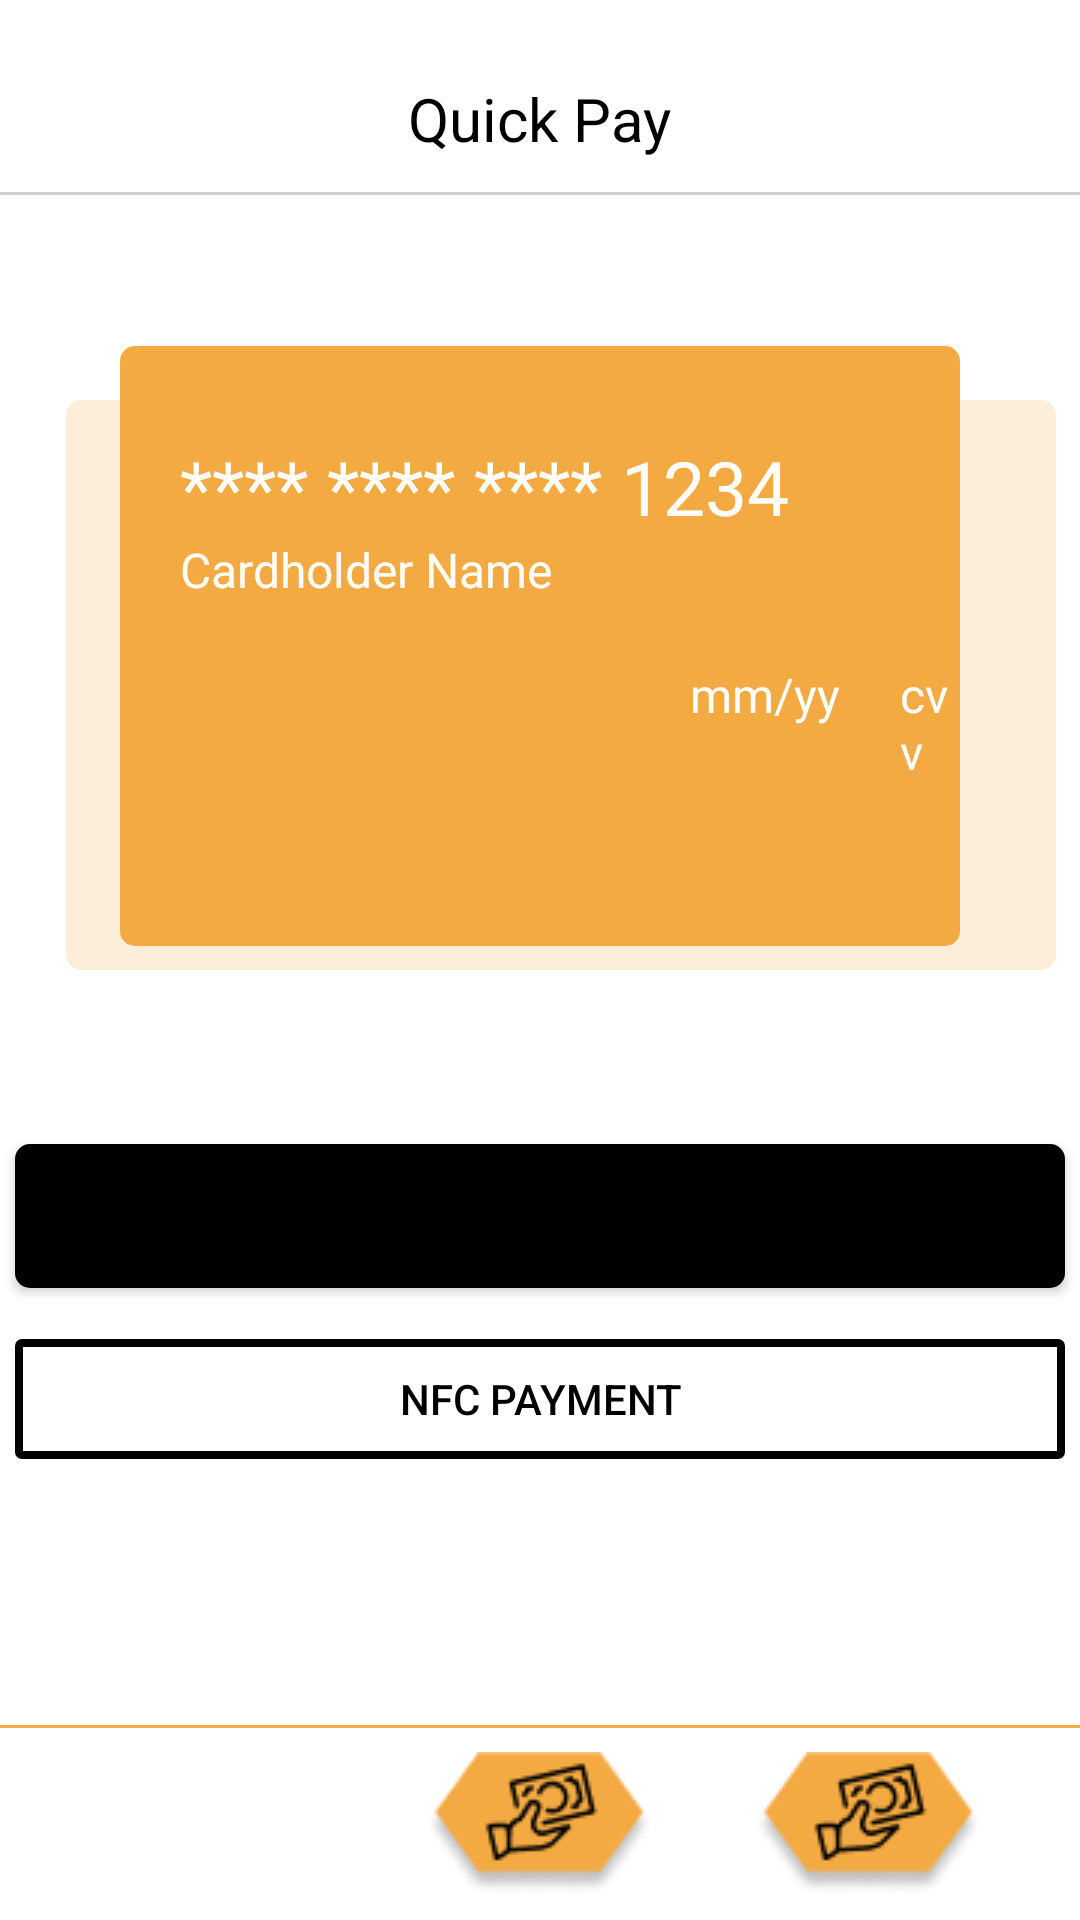

Icon click points for this 1080px×1920px phone screenshot, format [x,y]:
pay: [539,1818], [868,1818]
